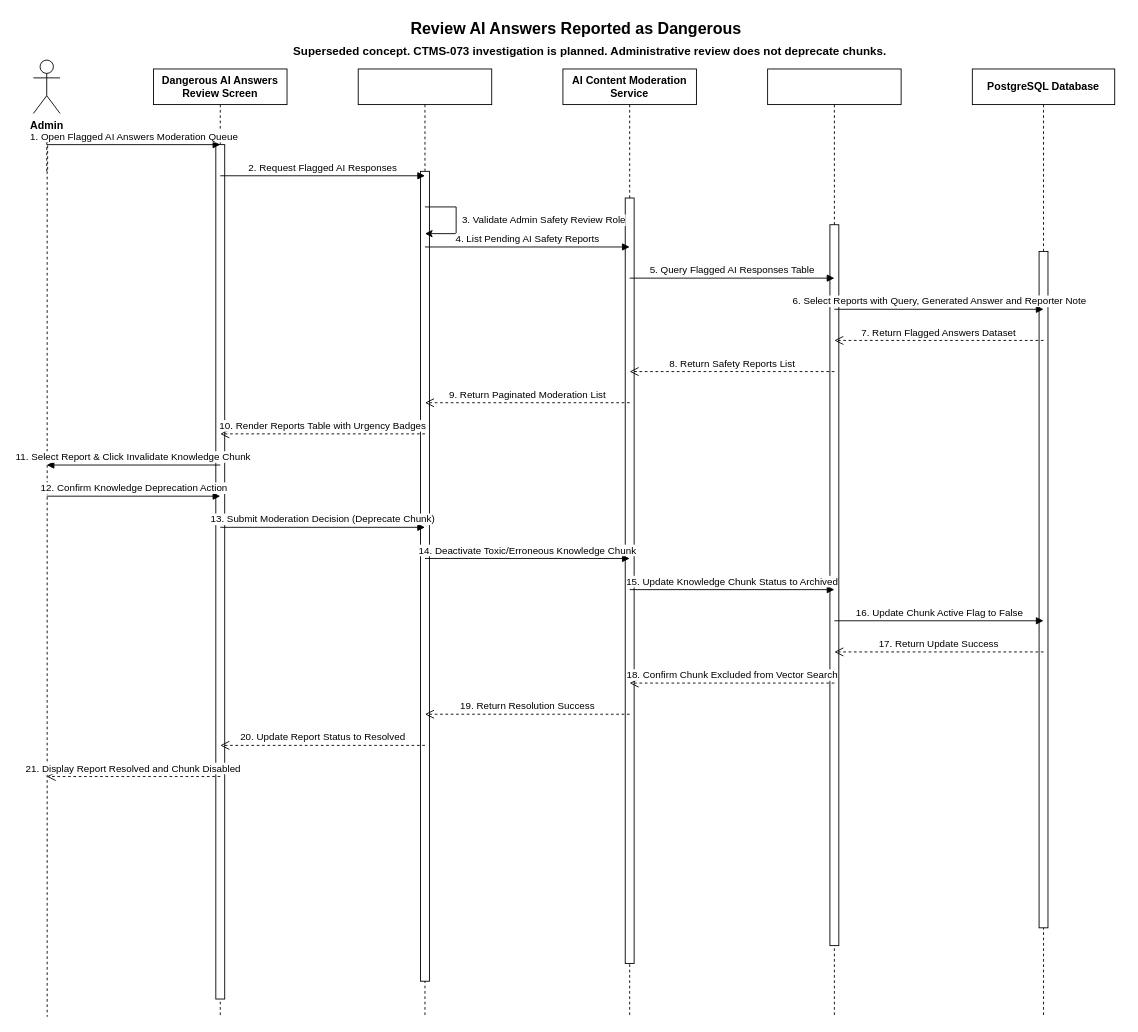
This 1138x1032 diagram has some shape labels left out. The centre of each missing label's shape, as x and y in pixels:
"Flagged Answer Model" belongs at (834,542).
"Safety Audit Controller" belongs at (424,542).
